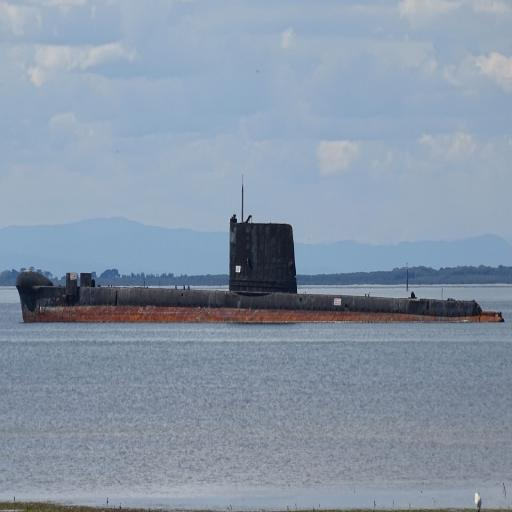submarine: (16, 173, 505, 322)
